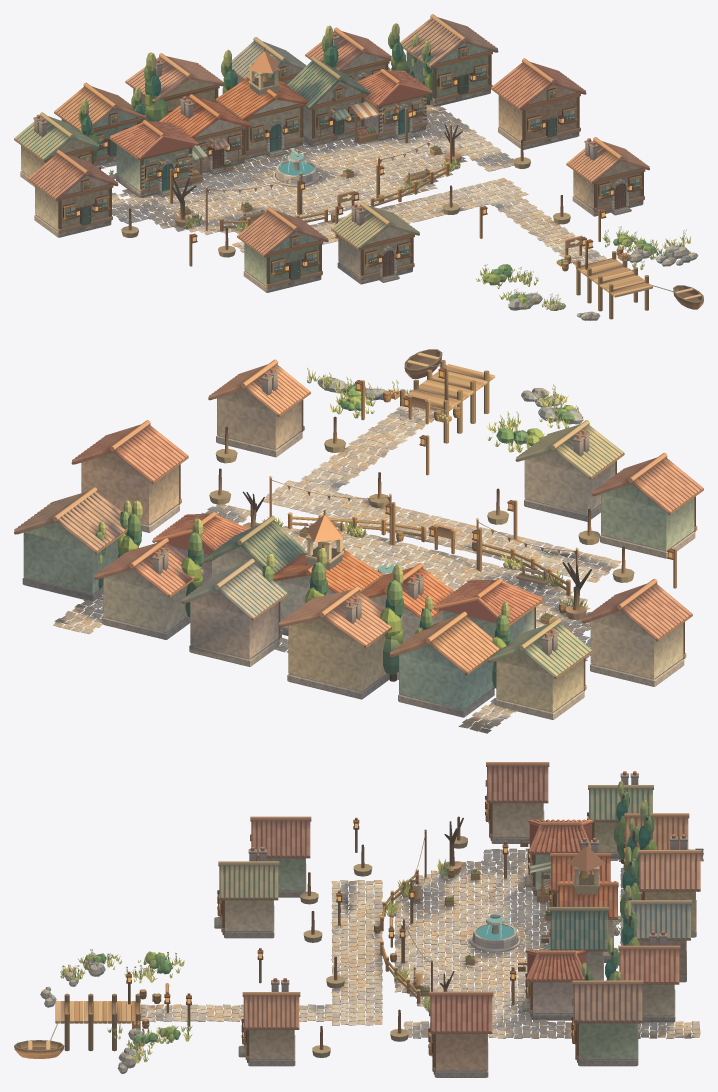
Rendered from district_town.glb.
3 renders of one model, top to bottom at view 1: azimuth 30°, elevation 25°; view 2: azimuth 150°, elevation 25°; view 3: azimuth 270°, elevation 25°, orthographic. The views are drawn at different scales.
Visible parts, largest first — view 1: Eichenhafen · Seitenstraßen, Hafengasse und Wohnhäuser .001, Eichenhafen · Seitenstraßen, Hafengasse und Wohnhäuser, Eichenhafen · Giebelhäuser, Docks und Rathaus · 0,0, Eichenhafen · Seitenstraßen, Hafengasse und Wohnhäuser · -1, Eichenhafen · Giebelhäuser, Docks und Rathaus · -1,0, Eichenhafen · Seitenstraßen, Hafengasse und Wohnhäuser · 0,, Eichenhafen · Pflaster, Brunnen und Marktstände · 0,-1, Eichenhafen · Pflaster, Brunnen und Marktstände · -1,-1, Eichenhafen · Pflaster, Brunnen und Marktstände · 0,0, Eichenhafen · Pflaster, Brunnen und Marktstände · -1,0, Eichenhafen · Handwerksschilder und Markttücher · -1,0, Eichenhafen · Handwerksschilder und Markttücher · 0,0 (+6 smaller); view 2: Eichenhafen · Seitenstraßen, Hafengasse und Wohnhäuser · -1, Eichenhafen · Seitenstraßen, Hafengasse und Wohnhäuser .001, Eichenhafen · Seitenstraßen, Hafengasse und Wohnhäuser · 0,, Eichenhafen · Seitenstraßen, Hafengasse und Wohnhäuser, Eichenhafen · Giebelhäuser, Docks und Rathaus · 0,0, Eichenhafen · Giebelhäuser, Docks und Rathaus · -1,0, Eichenhafen · Pflaster, Brunnen und Marktstände · -1,-1, Eichenhafen · Handwerksschilder und Markttücher · -1,0, Eichenhafen · Pflaster, Brunnen und Marktstände · 0,-1, Eichenhafen · Handwerksschilder und Markttücher · 0,0, Fischersteg · Geschichtete Uferfelsen · 0,-1, Fischersteg · Strandhafer und Salzwiesen · 0,-1 (+4 smaller); view 3: Eichenhafen · Seitenstraßen, Hafengasse und Wohnhäuser .001, Eichenhafen · Seitenstraßen, Hafengasse und Wohnhäuser · 0,, Eichenhafen · Seitenstraßen, Hafengasse und Wohnhäuser, Eichenhafen · Seitenstraßen, Hafengasse und Wohnhäuser · -1, Eichenhafen · Giebelhäuser, Docks und Rathaus · 0,0, Eichenhafen · Pflaster, Brunnen und Marktstände · -1,-1, Eichenhafen · Pflaster, Brunnen und Marktstände · 0,-1, Eichenhafen · Giebelhäuser, Docks und Rathaus · -1,0, Eichenhafen · Pflaster, Brunnen und Marktstände · -1,0, Eichenhafen · Handwerksschilder und Markttücher · -1,0, Eichenhafen · Pflaster, Brunnen und Marktstände · 0,0, Fischersteg · Geschichtete Uferfelsen · 0,-1 (+7 smaller).
Boxes of the visible parts, bbox=[...] form: Eichenhafen · Seitenstraßen, Hafengasse und Wohnhäuser .001: bbox=[379, 58, 652, 319]; Eichenhafen · Seitenstraßen, Hafengasse und Wohnhäuser: bbox=[49, 169, 419, 292]; Eichenhafen · Giebelhäuser, Docks und Rathaus · 0,0: bbox=[240, 47, 432, 159]; Eichenhafen · Seitenstraßen, Hafengasse und Wohnhäuser · -1: bbox=[14, 53, 223, 236]; Eichenhafen · Giebelhäuser, Docks und Rathaus · -1,0: bbox=[109, 66, 267, 203]; Eichenhafen · Seitenstraßen, Hafengasse und Wohnhäuser · 0,: bbox=[231, 14, 498, 138]; Eichenhafen · Pflaster, Brunnen und Marktstände · 0,-1: bbox=[288, 138, 467, 211]; Eichenhafen · Pflaster, Brunnen und Marktstände · -1,-1: bbox=[141, 151, 335, 235]; Eichenhafen · Pflaster, Brunnen und Marktstände · 0,0: bbox=[264, 101, 445, 169]; Eichenhafen · Pflaster, Brunnen und Marktstände · -1,0: bbox=[119, 145, 294, 212]; Eichenhafen · Handwerksschilder und Markttücher · -1,0: bbox=[78, 50, 239, 192]; Eichenhafen · Handwerksschilder und Markttücher · 0,0: bbox=[270, 23, 438, 141]; Eichenhafen · Seitenstraßen, Hafengasse und Wohnhäuser · -1: bbox=[278, 579, 692, 733]; Eichenhafen · Seitenstraßen, Hafengasse und Wohnhäuser .001: bbox=[71, 359, 494, 547]; Eichenhafen · Seitenstraßen, Hafengasse und Wohnhäuser · 0,: bbox=[14, 487, 288, 666]; Eichenhafen · Seitenstraßen, Hafengasse und Wohnhäuser: bbox=[455, 420, 703, 659]; Eichenhafen · Giebelhäuser, Docks und Rathaus · 0,0: bbox=[152, 509, 351, 635]; Eichenhafen · Giebelhäuser, Docks und Rathaus · -1,0: bbox=[326, 533, 543, 643]; Eichenhafen · Pflaster, Brunnen und Marktstände · -1,-1: bbox=[385, 553, 590, 636]; Eichenhafen · Handwerksschilder und Markttücher · -1,0: bbox=[307, 548, 510, 688]; Eichenhafen · Pflaster, Brunnen und Marktstände · 0,-1: bbox=[243, 505, 447, 573]; Eichenhafen · Handwerksschilder und Markttücher · 0,0: bbox=[95, 500, 312, 634]; Fischersteg · Geschichtete Uferfelsen · 0,-1: bbox=[317, 376, 583, 445]; Fischersteg · Strandhafer und Salzwiesen · 0,-1: bbox=[307, 367, 582, 452]; Eichenhafen · Seitenstraßen, Hafengasse und Wohnhäuser .001: bbox=[55, 937, 500, 1077]; Eichenhafen · Seitenstraßen, Hafengasse und Wohnhäuser · 0,: bbox=[497, 900, 700, 1066]; Eichenhafen · Seitenstraßen, Hafengasse und Wohnhäuser: bbox=[214, 765, 501, 942]; Eichenhafen · Seitenstraßen, Hafengasse und Wohnhäuser · -1: bbox=[486, 762, 703, 941]; Eichenhafen · Giebelhäuser, Docks und Rathaus · 0,0: bbox=[510, 841, 618, 1020]; Eichenhafen · Pflaster, Brunnen und Marktstände · -1,-1: bbox=[394, 846, 518, 949]; Eichenhafen · Pflaster, Brunnen und Marktstände · 0,-1: bbox=[394, 914, 505, 1023]; Eichenhafen · Giebelhäuser, Docks und Rathaus · -1,0: bbox=[502, 819, 616, 911]; Eichenhafen · Pflaster, Brunnen und Marktstände · -1,0: bbox=[500, 860, 550, 943]; Eichenhafen · Handwerksschilder und Markttücher · -1,0: bbox=[520, 781, 657, 935]; Eichenhafen · Pflaster, Brunnen und Marktstände · 0,0: bbox=[499, 919, 550, 1023]; Fischersteg · Geschichtete Uferfelsen · 0,-1: bbox=[48, 951, 180, 1073].
Size of the model in its own units: 33.67 by 7.78 by 36.71.
4 materials, 3 textured.
